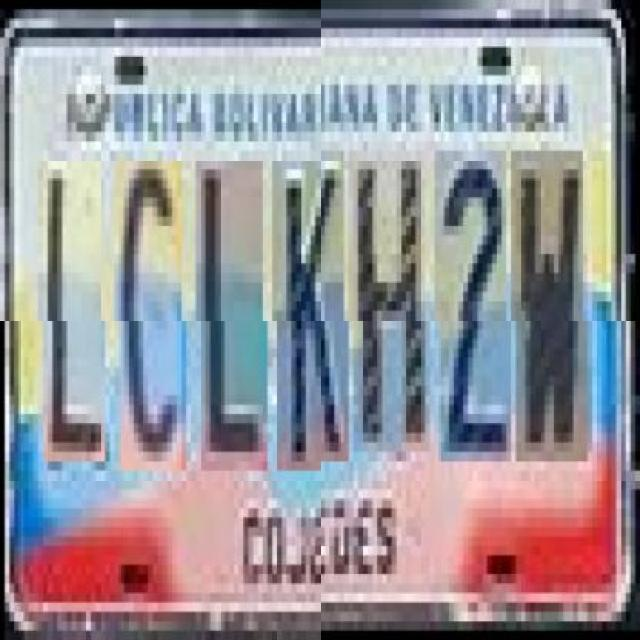2: (439, 160, 512, 471)
c: (119, 160, 187, 471)
h: (353, 160, 430, 462)
k: (277, 160, 349, 471)
l: (200, 160, 268, 471), (43, 160, 105, 462)
w: (515, 160, 588, 471)
